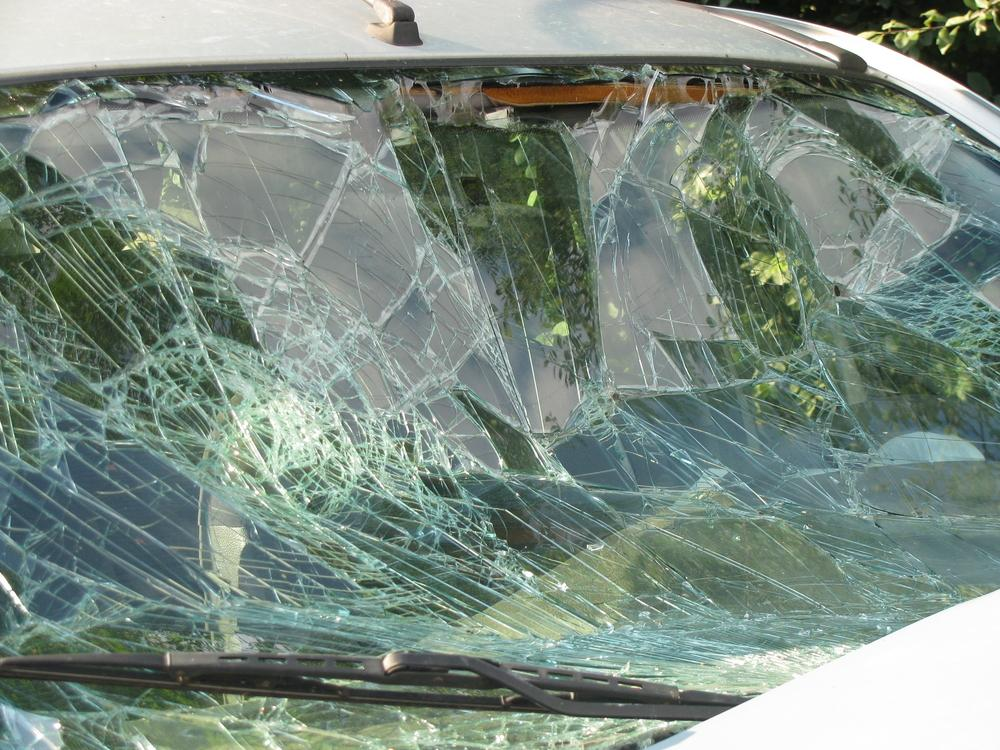glass shatter: (0, 61, 1000, 750)
